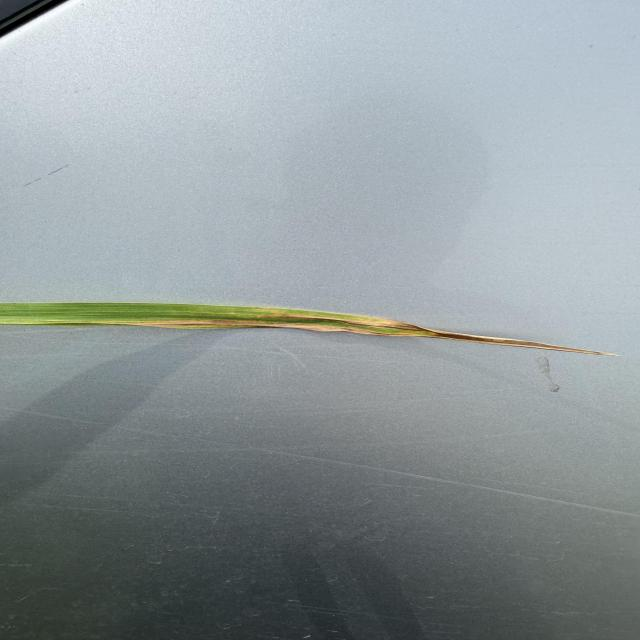Chay bia la: (132, 316, 620, 355)
